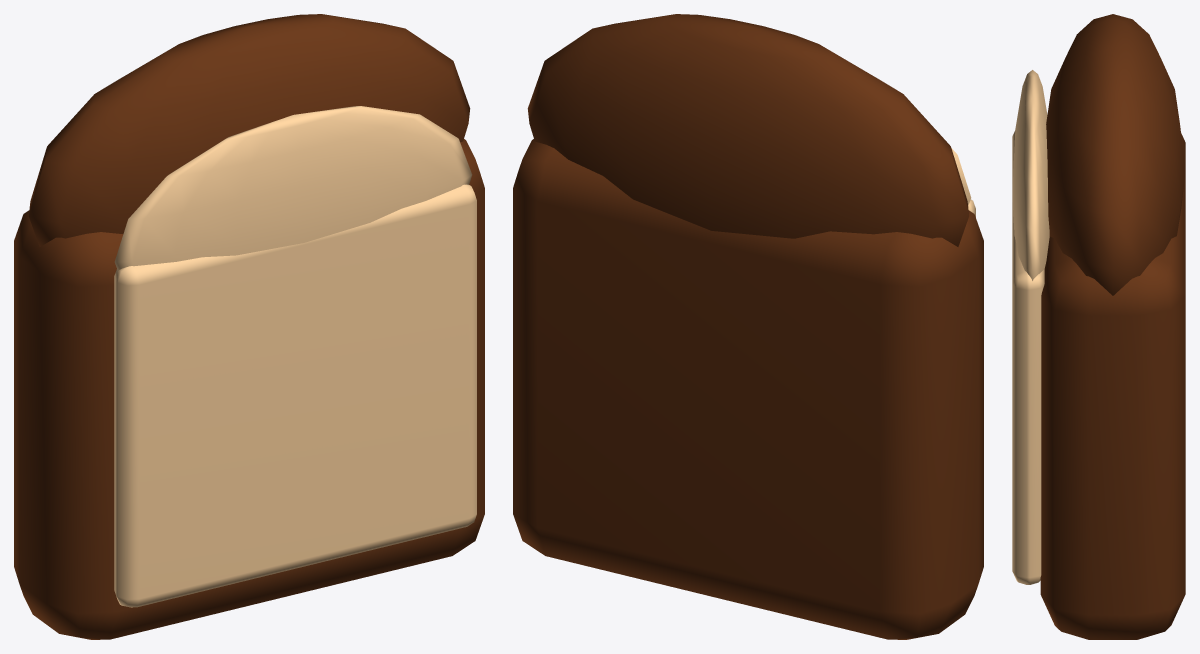
Rendered from toast.glb.
3 views of the same model, side by side, from view 1: azimuth 30°, elevation 25°; view 2: azimuth 150°, elevation 25°; view 3: azimuth 270°, elevation 25° (orthographic). The views are drawn at different scales.
Visible parts, largest first — view 1: toast; view 2: toast; view 3: toast.
Part boxes in pixels (<box>): toast: <box>14,14,484,639</box>; toast: <box>513,14,983,639</box>; toast: <box>1012,14,1185,639</box>.
Size of the model in its own units: 0.8227 by 1 by 0.305.
1 material, 1 textured.
